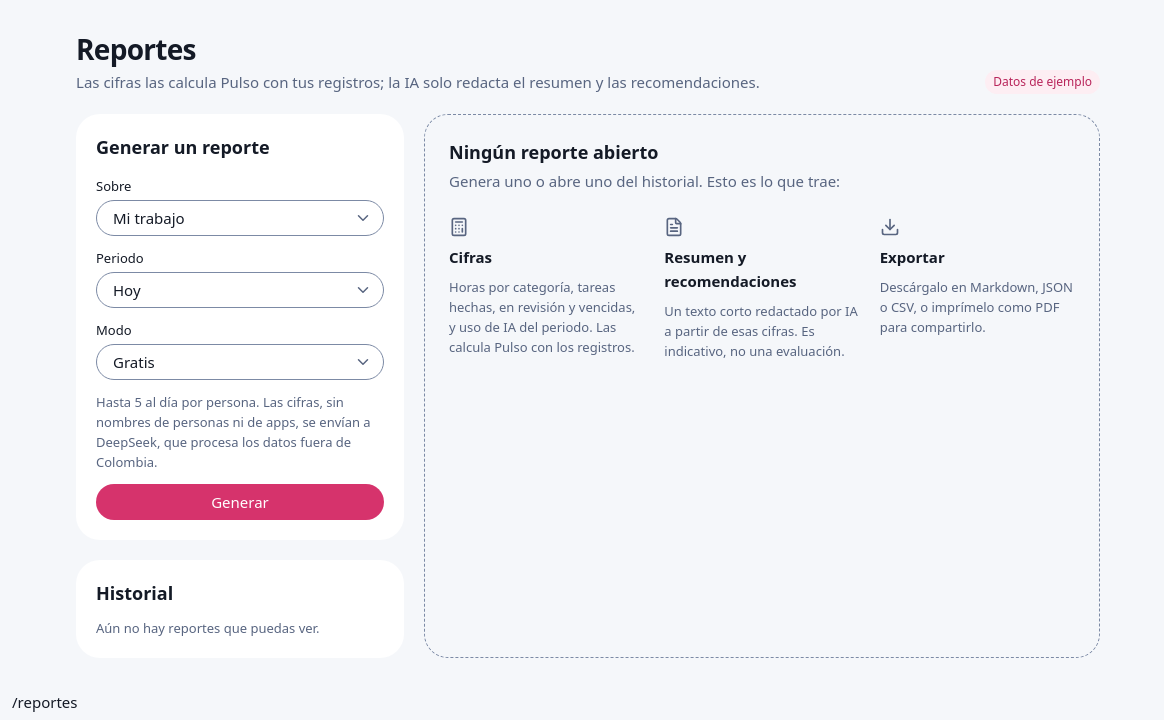
Scenario: Reportes · un solo aviso de error (F7) › un fallo al guardar en Manual se muestra una vez, en el panel Manual
Select "Manual (copiar y pegar)" in the dropdown labelled "Modo": (240, 362) [96,344,384,380]
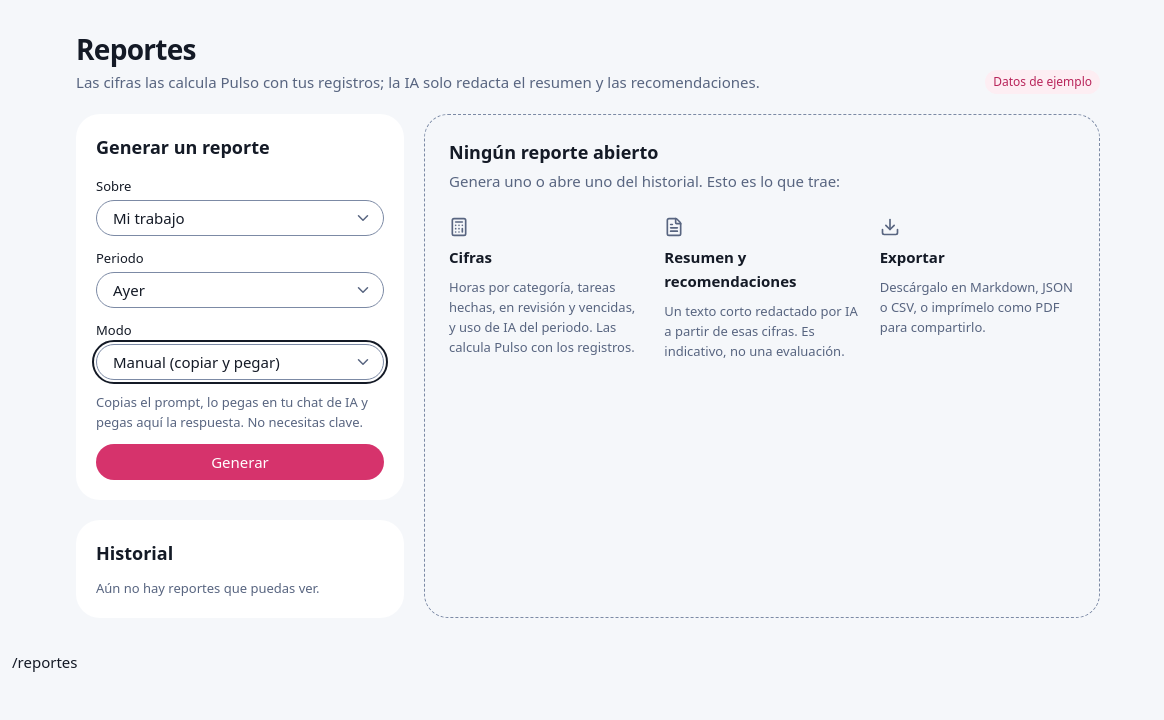
Click the button "Generar": (240, 462) [96,444,384,480]
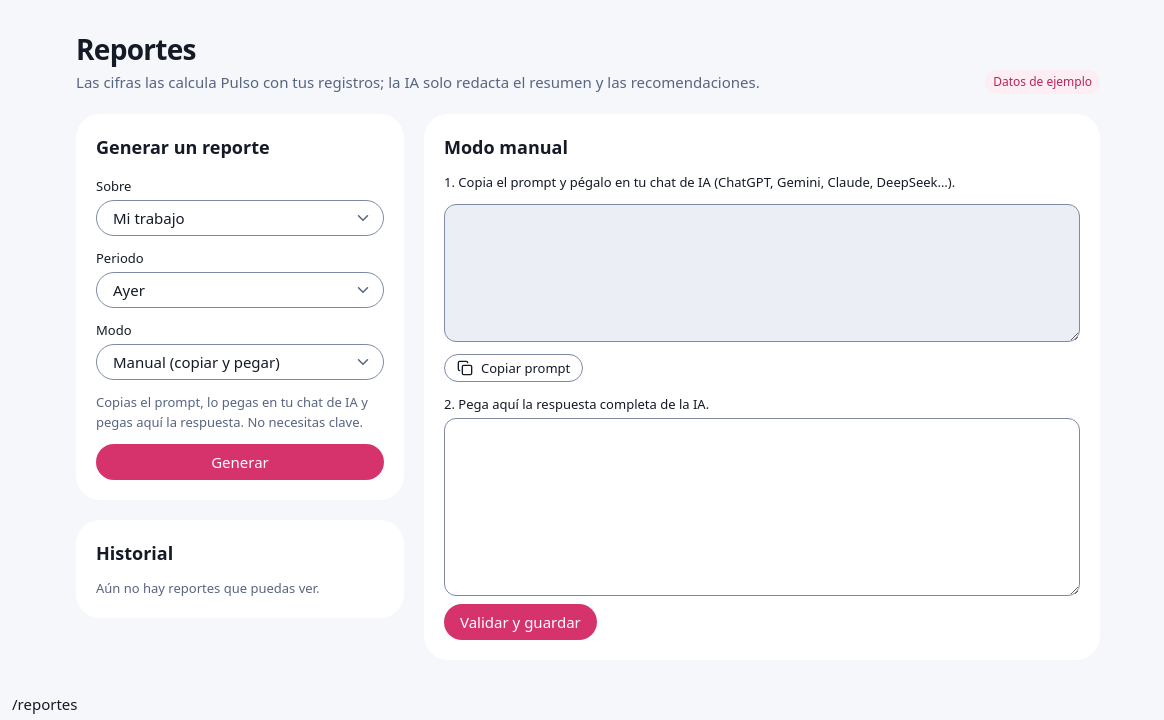
Click the text box named "Respuesta de la IA": (762, 507) [444,418,1080,596]
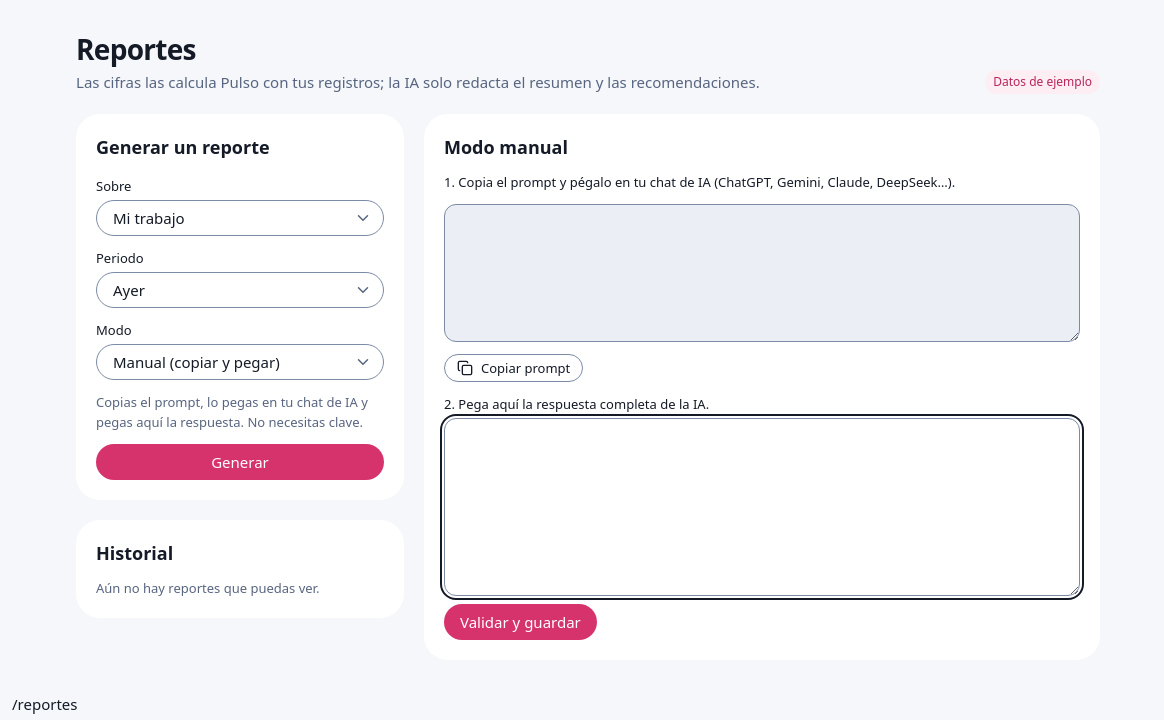
Type keys "{\"summary\":\"Día tranquilo.\",\"insights\":[],\"recommendations\":[],\"insufficient_data\":false}"
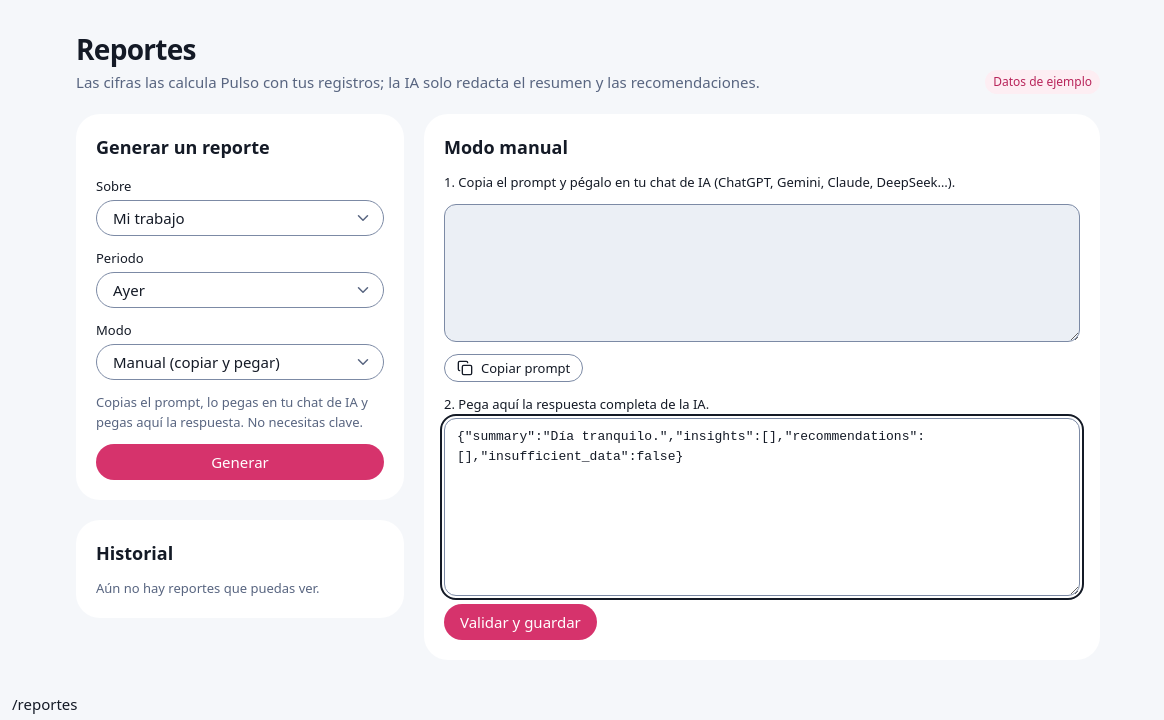
Click the button "Validar y guardar": (520, 622) [444,604,597,640]
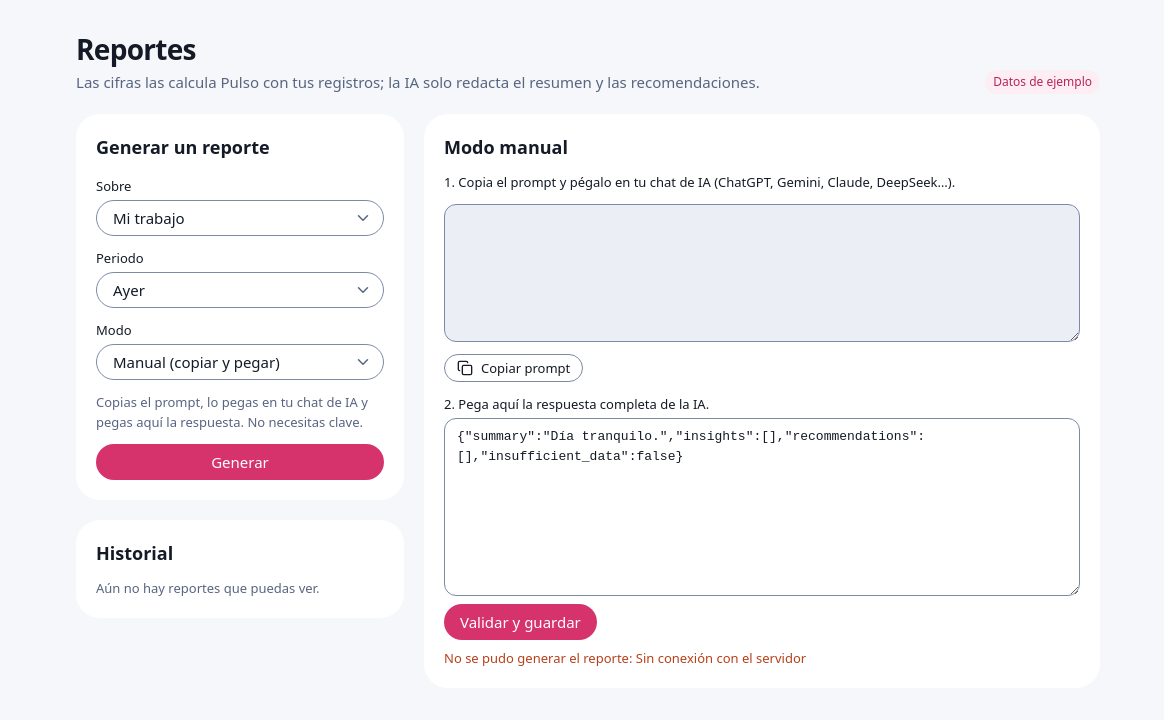
Expected: the message shows "Sin conexión con el servidor", [444,649,806,667]
